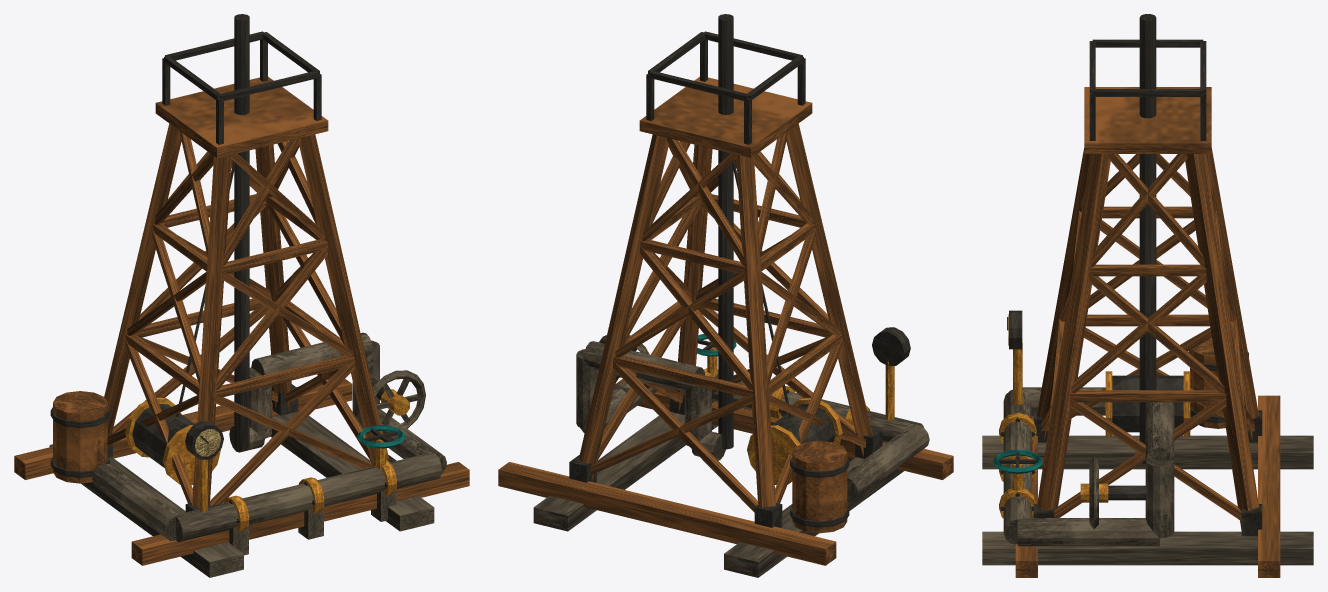
The model's file is derrick-05.glb.
3 views of the same model, side by side, from view 1: azimuth 30°, elevation 25°; view 2: azimuth 150°, elevation 25°; view 3: azimuth 270°, elevation 25° (orthographic). The views are drawn at different scales.
Parts seen in each view (by area): view 1: derrick-05; view 2: derrick-05; view 3: derrick-05.
Boxes of the visible parts, left/top/right/bottom form: derrick-05: left=14, top=14, right=469, bottom=577; derrick-05: left=498, top=14, right=953, bottom=577; derrick-05: left=982, top=14, right=1313, bottom=577.
Size of the model in its own units: 5.23 by 7.24 by 4.43.
Materials: 1 (1 with a texture image).
